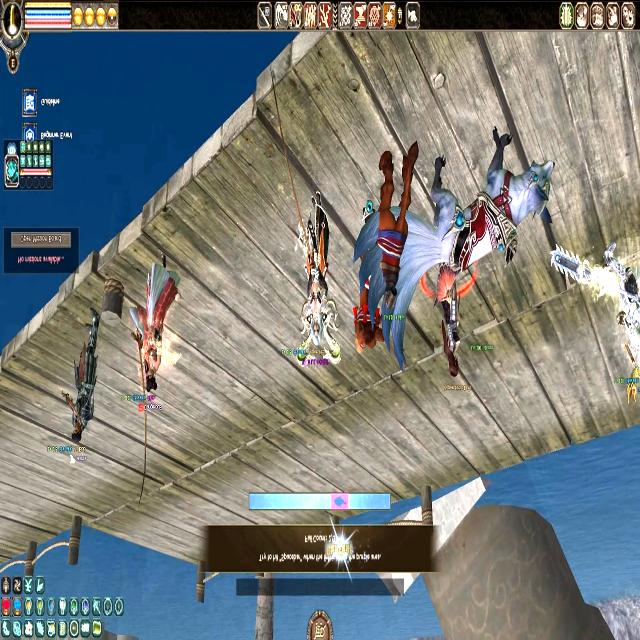fishes: (332, 495, 347, 509)
